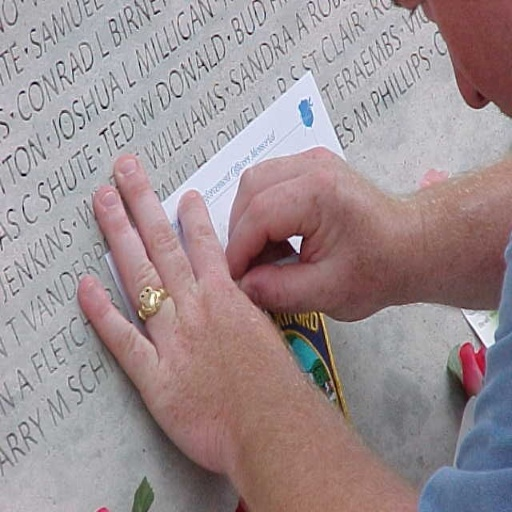hand: (76, 150, 300, 470), (224, 140, 403, 322)
